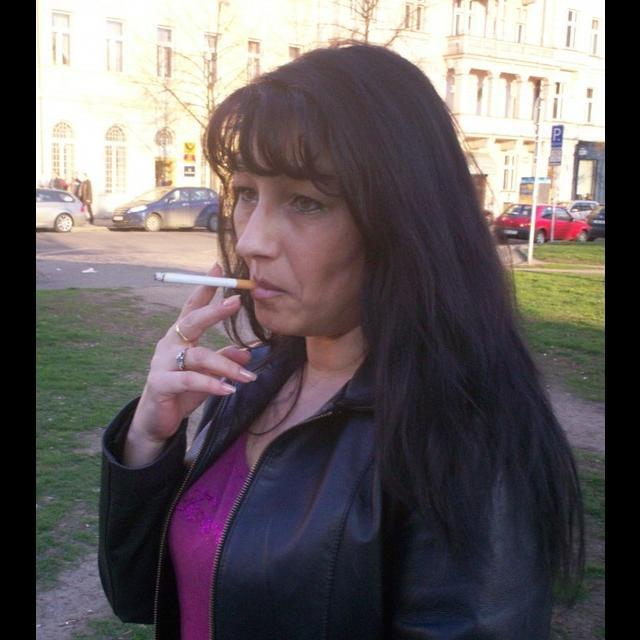rokok: (150, 264, 258, 296)
